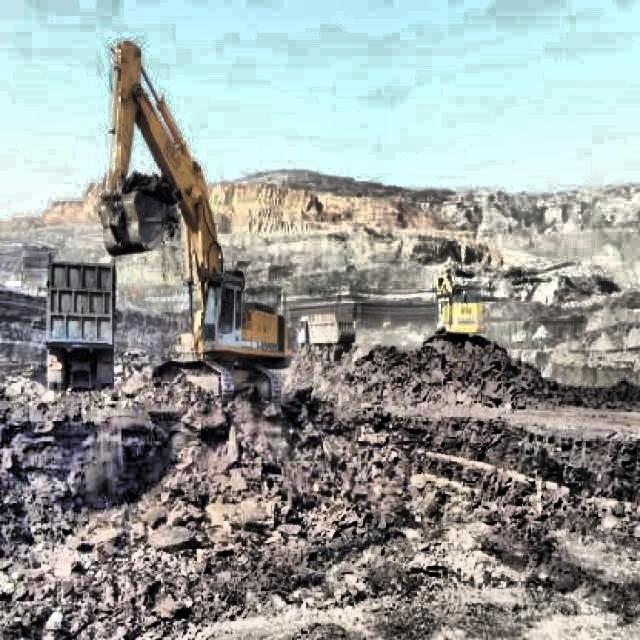dump_truck: (50, 252, 116, 394), (296, 309, 356, 357)
excavator: (104, 40, 290, 426), (430, 270, 484, 346)
